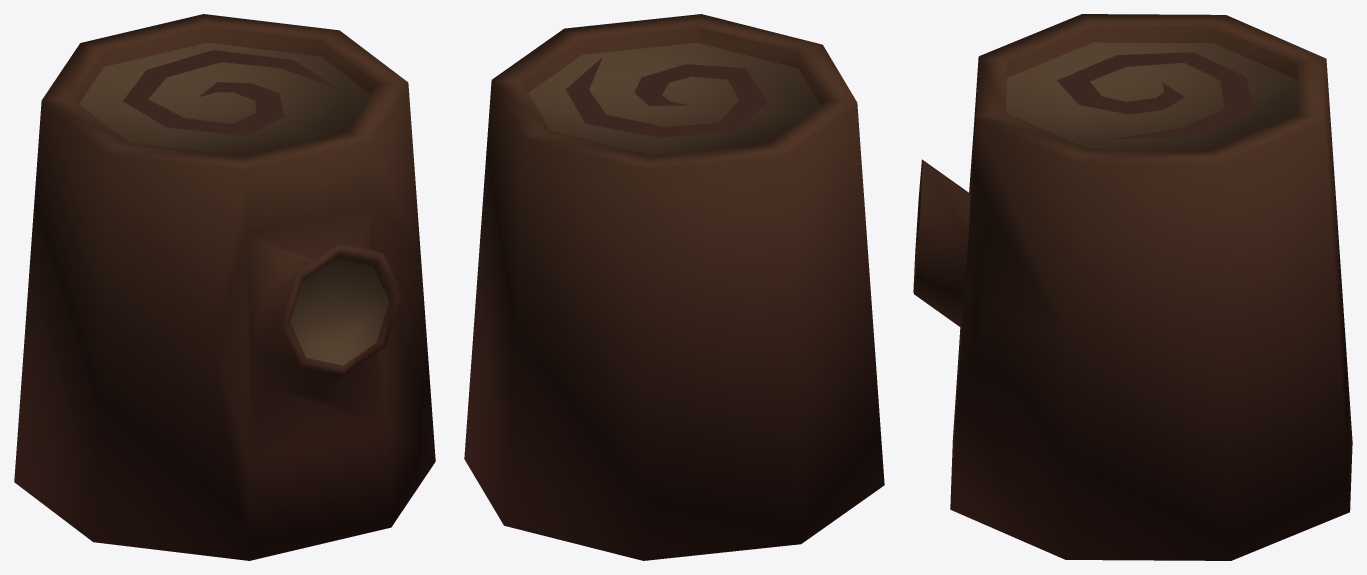
File: Stump2.fbx
3 renders of one model, left to right at view 1: azimuth 30°, elevation 25°; view 2: azimuth 150°, elevation 25°; view 3: azimuth 270°, elevation 25°, orthographic.
Visible parts, largest first — view 1: Cylinder.006; view 2: Cylinder.006; view 3: Cylinder.006.
Part boxes in pixels (left/top/right/bottom): Cylinder.006: left=14, top=14, right=435, bottom=560; Cylinder.006: left=464, top=14, right=884, bottom=560; Cylinder.006: left=913, top=14, right=1352, bottom=560.
Size of the model in its own units: 63.37 by 69.18 by 67.43.
